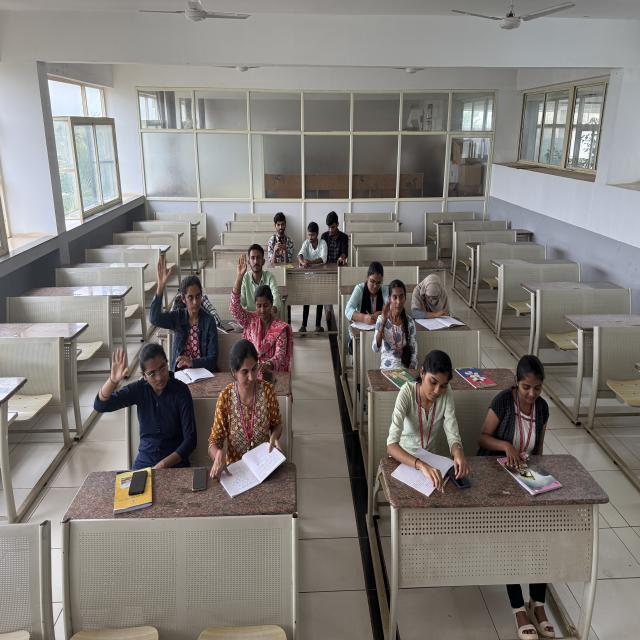Hand Rising: (90, 337, 204, 483), (147, 249, 217, 362), (227, 249, 294, 352), (371, 279, 426, 376)
Reading: (384, 341, 476, 496), (482, 342, 562, 489), (212, 338, 284, 481), (409, 266, 463, 336)
Using Phone: (267, 211, 296, 269)
Writing: (346, 257, 391, 345)
